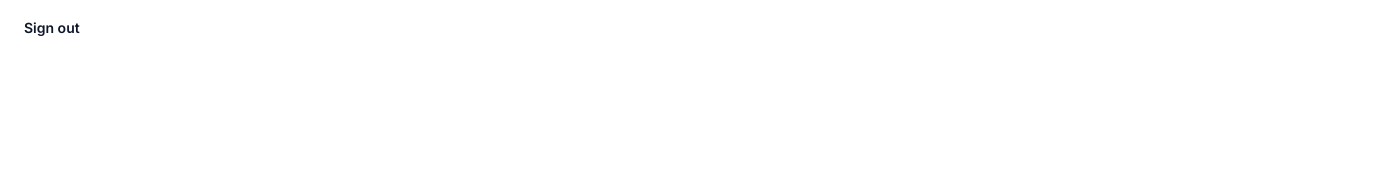
Test: SignOutButton › tells the person and stays put when it is stale
The width and height of the screenshot is (1390, 172).
Click the button "Sign out" at point(52, 28), box [12, 12, 1378, 44]
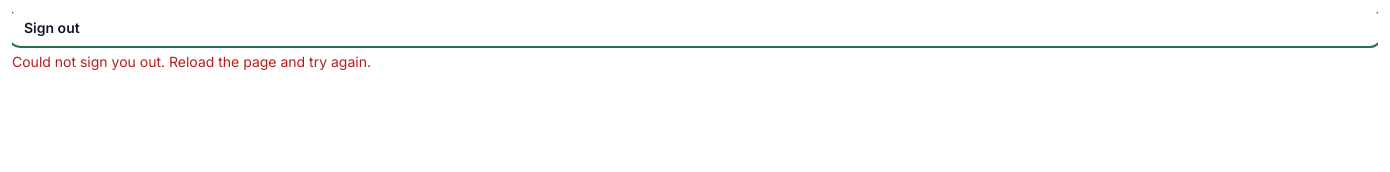
Check: the message shows "Could not sign you out", box [12, 53, 371, 70]
